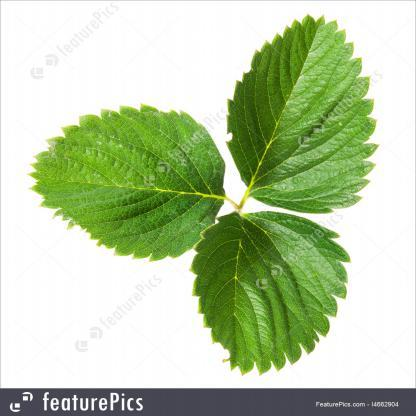Strawberry leaf: (19, 97, 221, 261), (226, 12, 382, 218), (178, 210, 360, 380)
